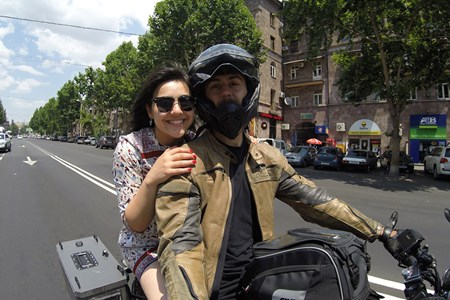helmet: (186, 39, 268, 150)
